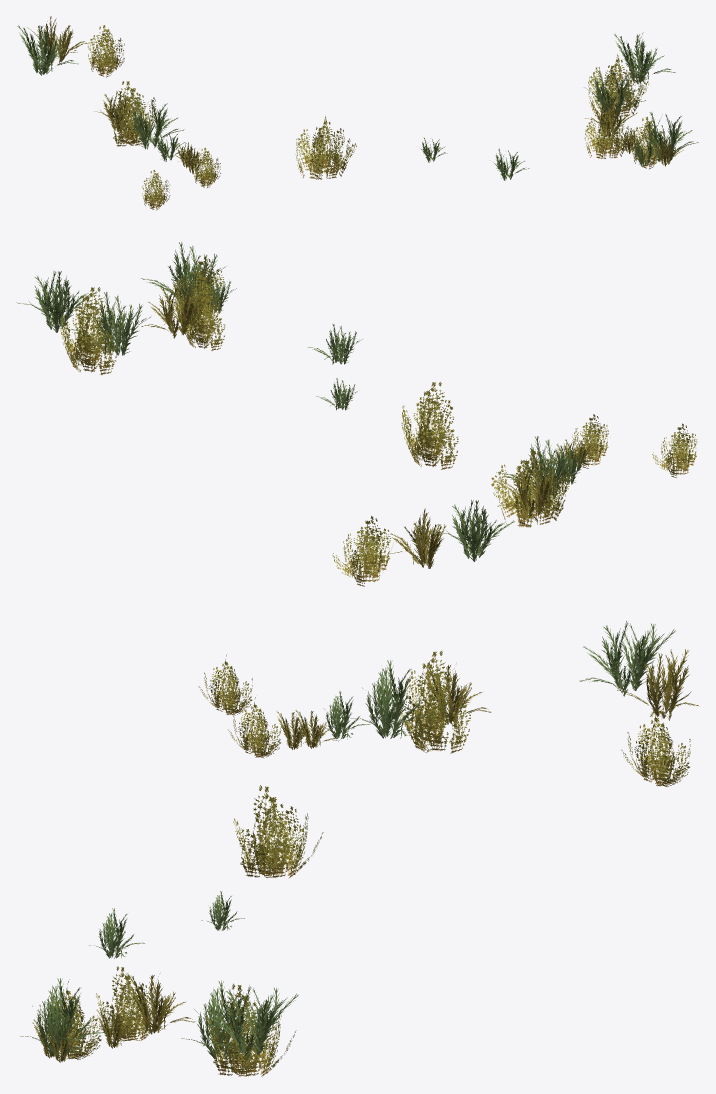
File: Plants.glb
The picture shows the model from 3 angles, top to bottom: view 1: azimuth 30°, elevation 25°; view 2: azimuth 150°, elevation 25°; view 3: azimuth 270°, elevation 25°; orthographic projection. The views are drawn at different scales.
Visible parts, largest first — view 1: Object_22.004; view 2: Object_22.004; view 3: Object_22.004.
Boxes of the visible parts, bbox=[...] form: Object_22.004: bbox=[17, 16, 698, 210]; Object_22.004: bbox=[16, 242, 697, 586]; Object_22.004: bbox=[20, 621, 699, 1076].
Bounding box in the file's own units: 9.46 × 1.72 × 7.3.
Materials: 3 (3 with a texture image).
